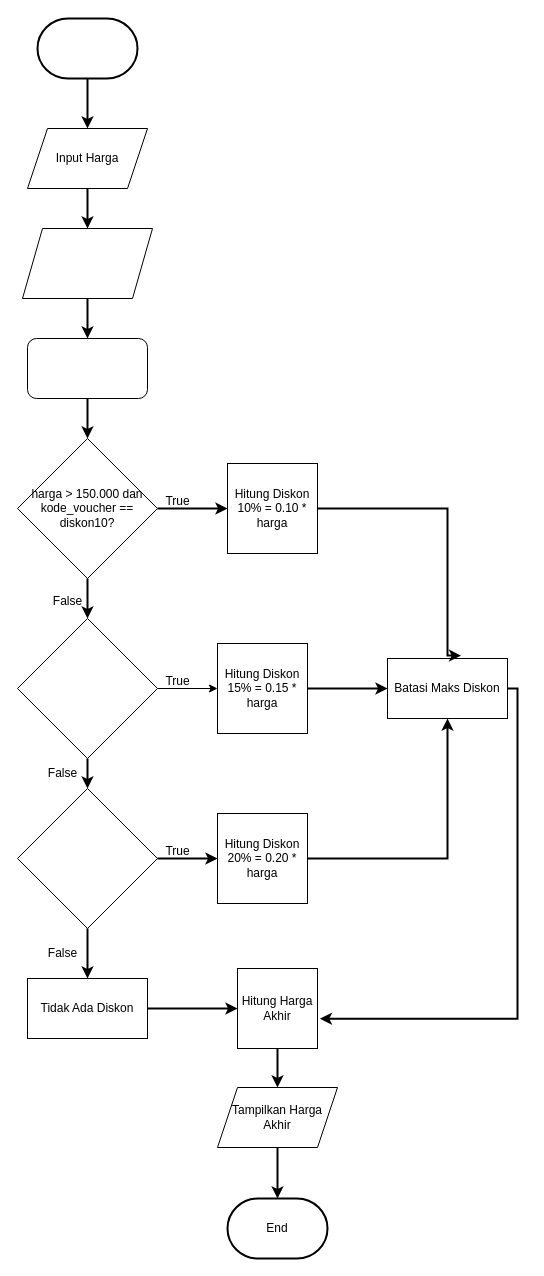
This 544x1276 diagram has some shape labels left out. Each missing label, with the centre of its shape:
"harga > 300.000 dan kode_voucher == diskon15?" belongs at [87,688].
"harga > 500.000 dan kode_voucher == diskon20?" belongs at [87,858].
"Input Kode Voucher" belongs at [87,263].
"Memanggil Fungsi hitung_diskon" belongs at [87,368].
"Start" belongs at [87,48].
